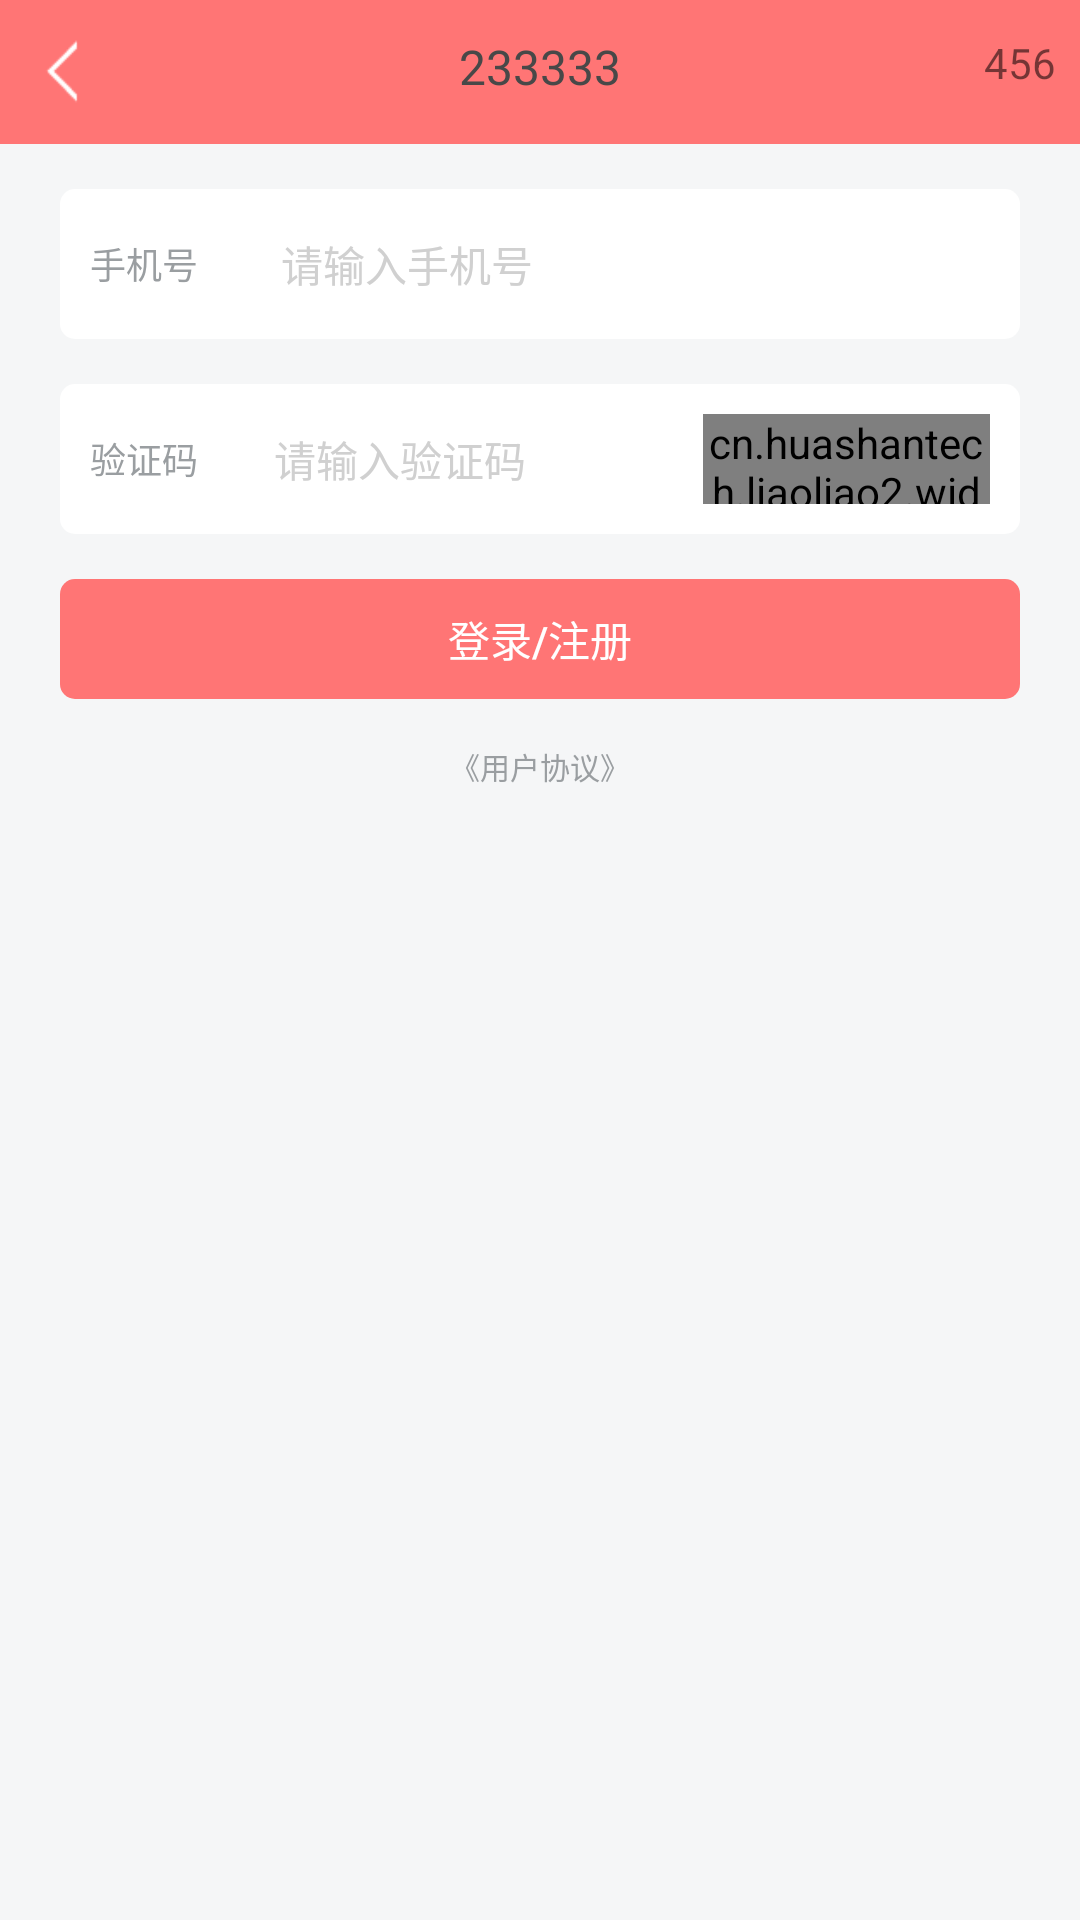

Icons on this 1080px×1920px Android screen, each with the point to tap as [x,y]:
back: [62,71]
